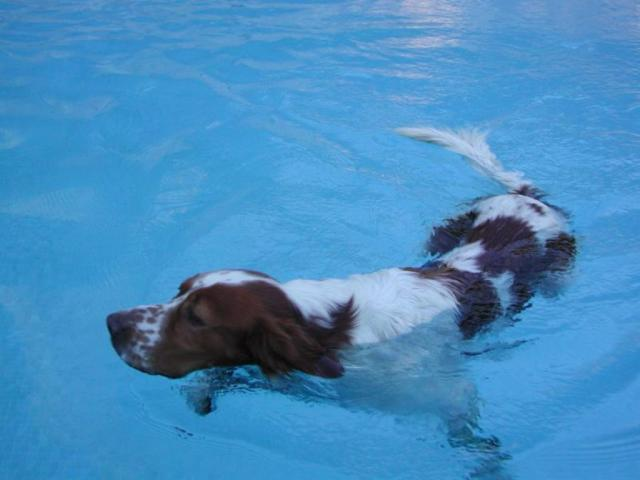Dog: (106, 129, 578, 479)
